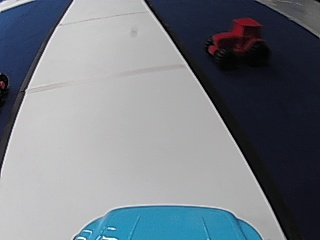tractor: (201, 15, 269, 70)
